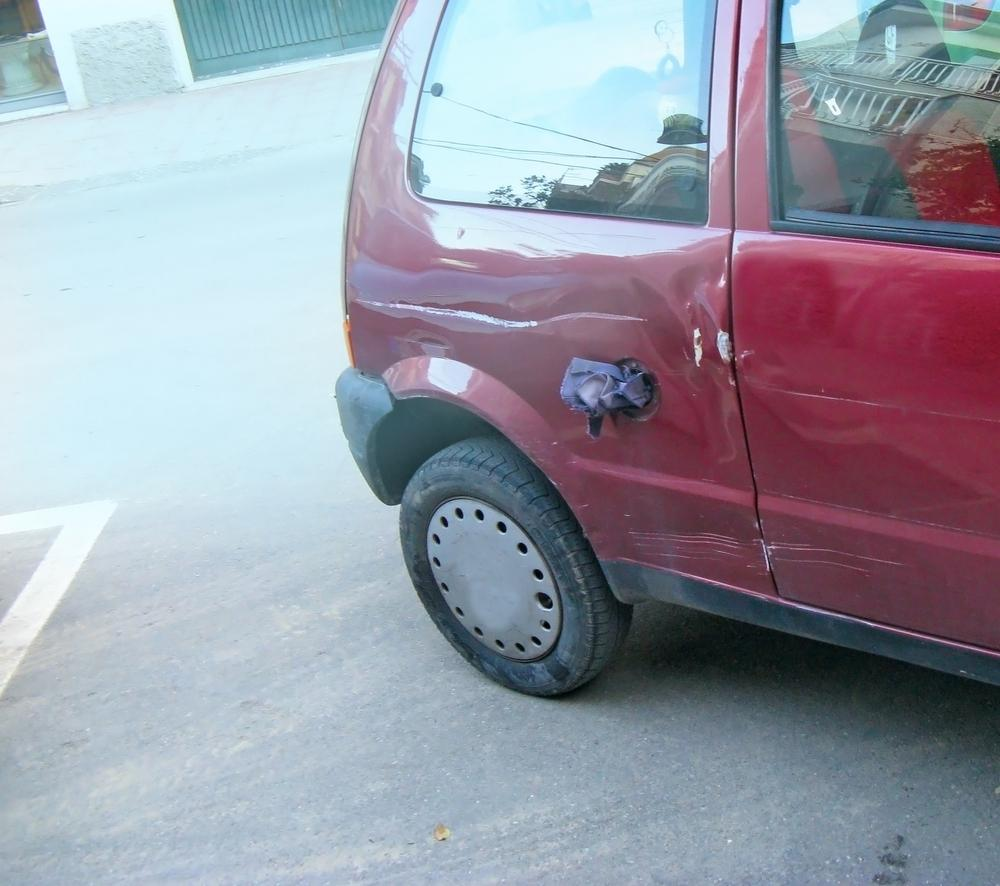dent: (632, 259, 737, 458)
scratch: (751, 377, 1000, 425), (356, 296, 638, 331), (629, 526, 771, 572), (762, 537, 903, 578)
